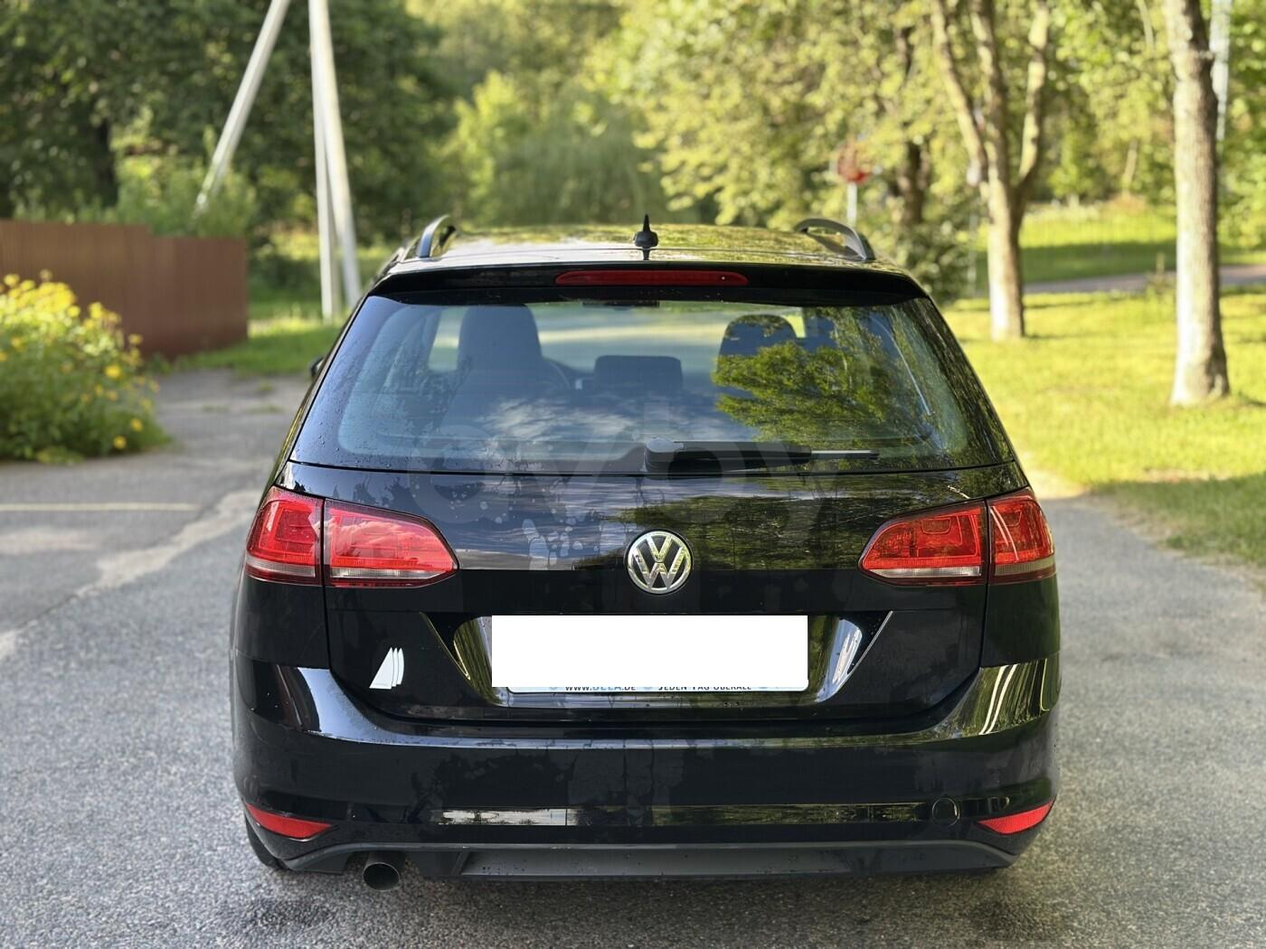Golf_2012-2017: (228, 214, 1067, 916)
